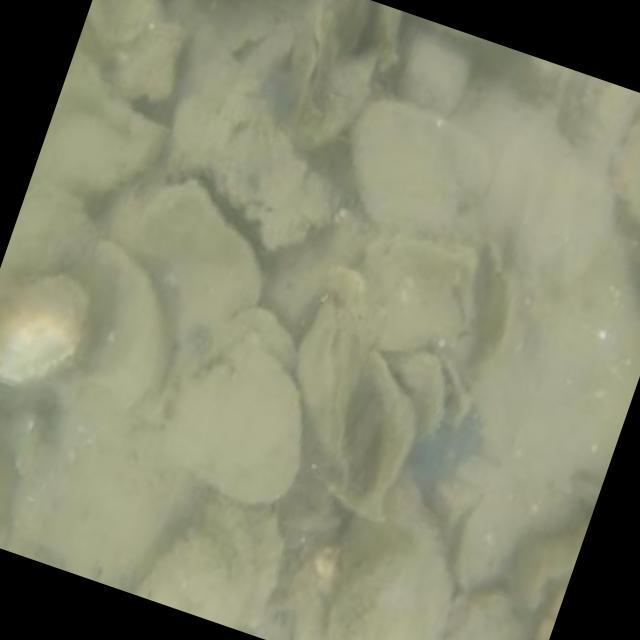Oyster- Indeterminate: (124, 490, 284, 631), (167, 331, 299, 501), (330, 540, 433, 640), (557, 69, 640, 167), (0, 190, 98, 269), (399, 28, 476, 114)
Oyster-Closed: (333, 464, 455, 640)
Oyster-Open: (292, 275, 365, 493), (388, 351, 467, 439)
